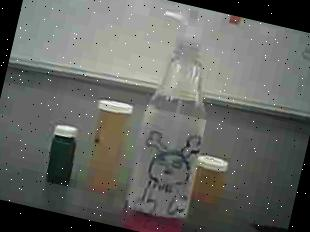Bottle A: (68, 90, 145, 202)
Bottle B: (190, 146, 238, 209)
Bottle C: (40, 112, 90, 186)
hazard: (108, 0, 241, 232)
